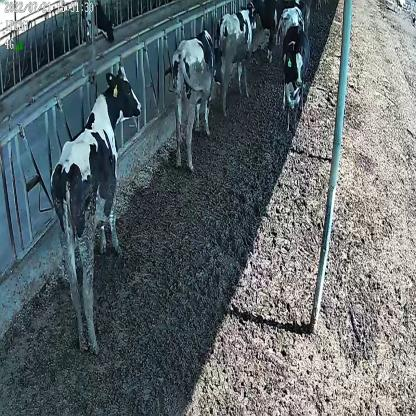cow: (49, 63, 143, 348), (172, 25, 215, 172), (218, 5, 258, 110), (282, 29, 310, 129)
